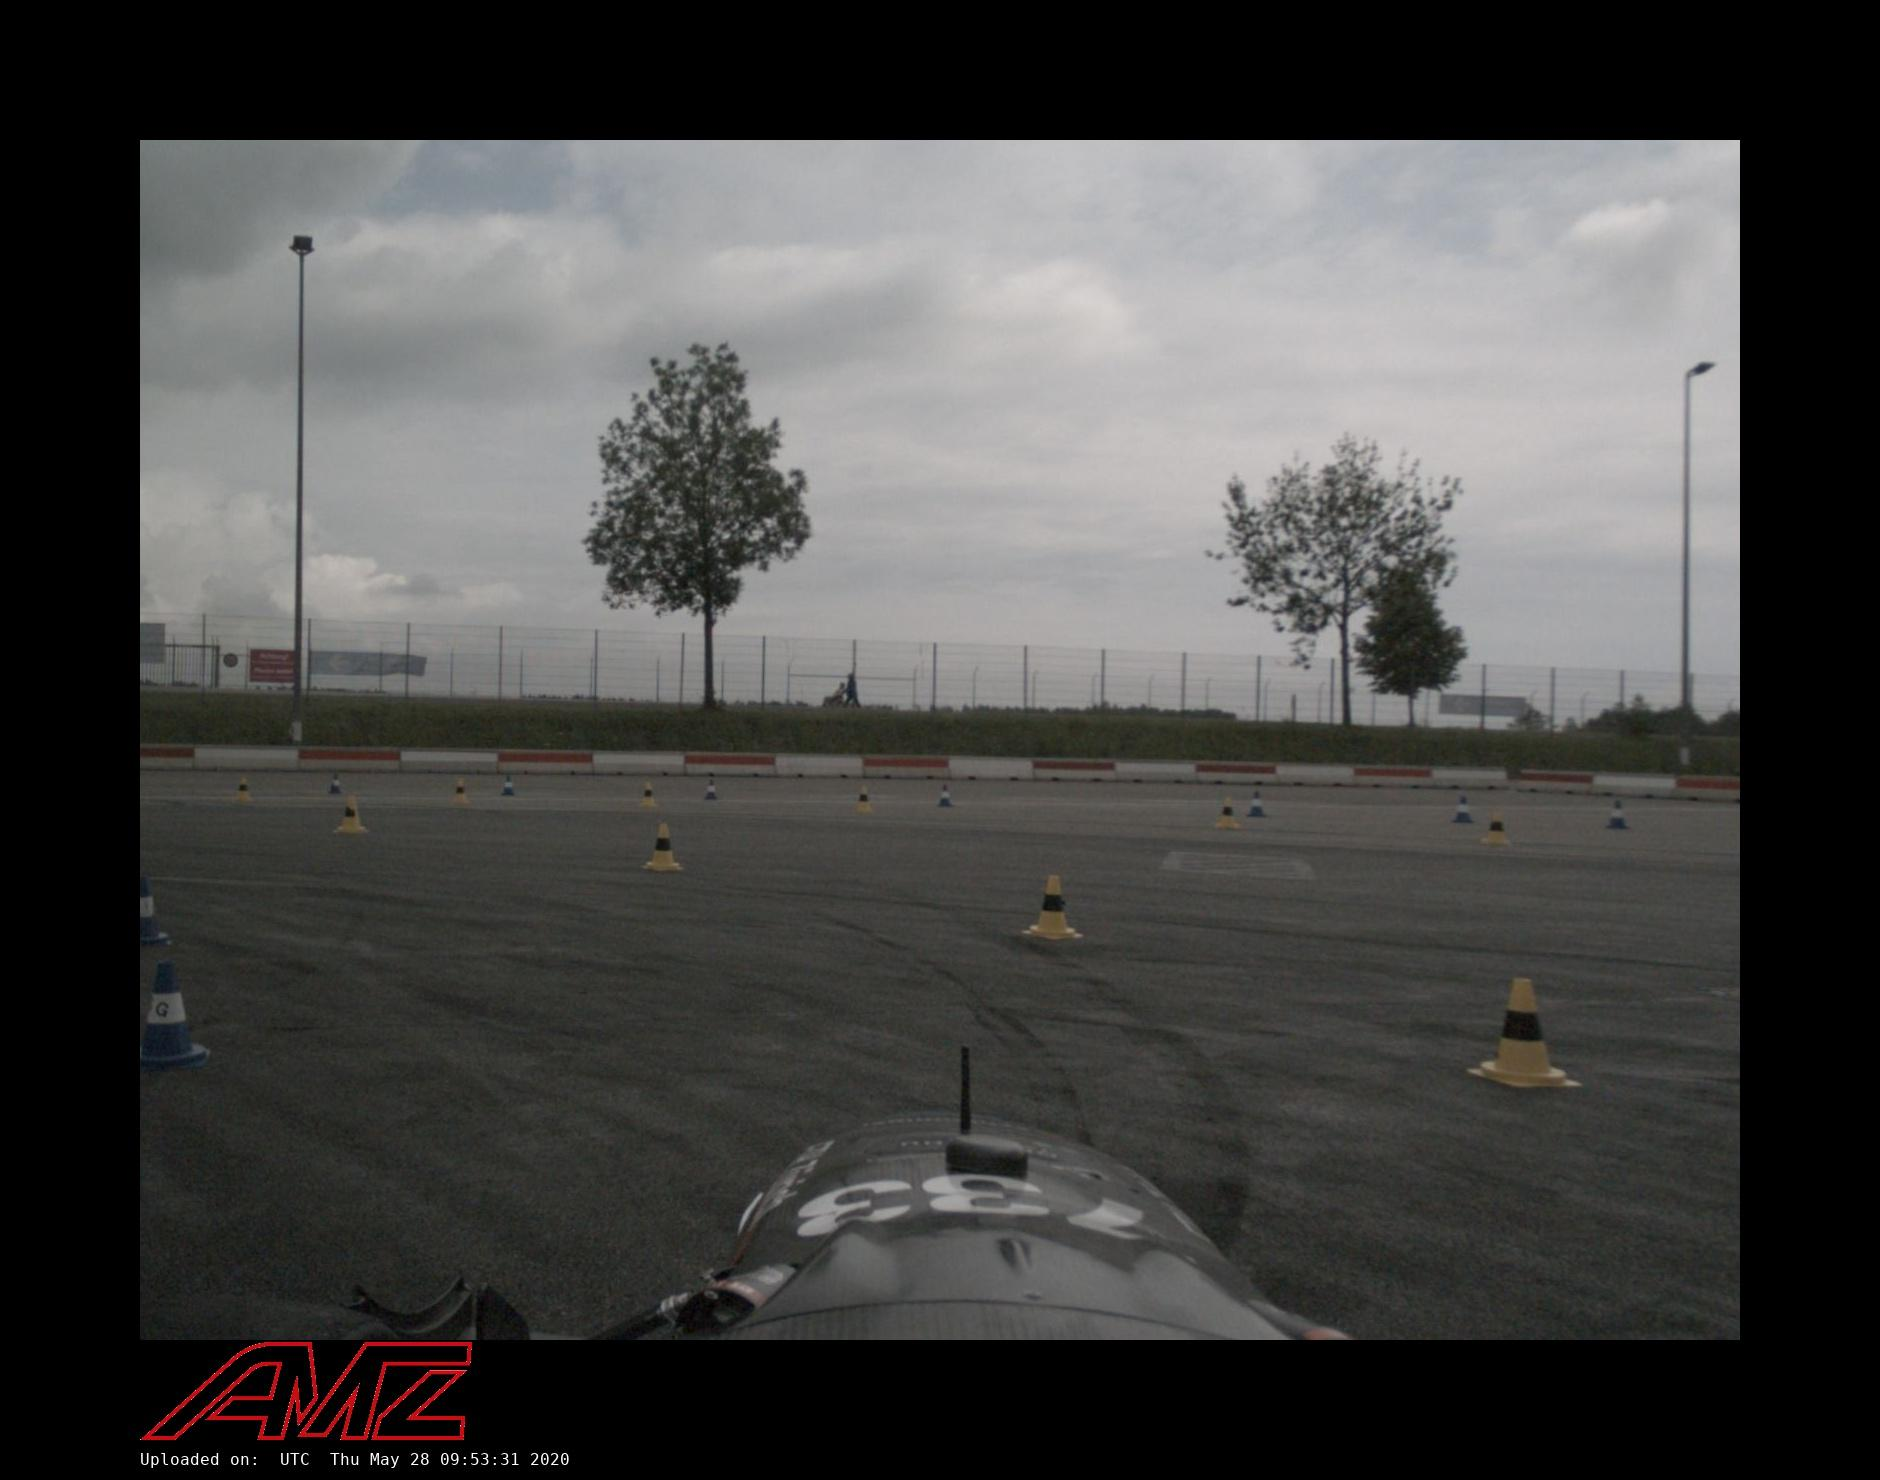blue_cone: (140, 961, 215, 1070), (140, 869, 171, 945), (1606, 798, 1630, 830), (1452, 794, 1474, 823), (936, 783, 956, 808), (1249, 790, 1267, 817), (702, 778, 720, 801), (501, 774, 516, 796), (329, 773, 343, 794)
yellow_cone: (1466, 976, 1583, 1089), (1022, 874, 1084, 939), (641, 822, 686, 871), (336, 794, 363, 833), (1482, 810, 1508, 844), (1218, 797, 1239, 825), (234, 775, 253, 802), (853, 786, 873, 810), (639, 782, 658, 805), (452, 776, 468, 800)
